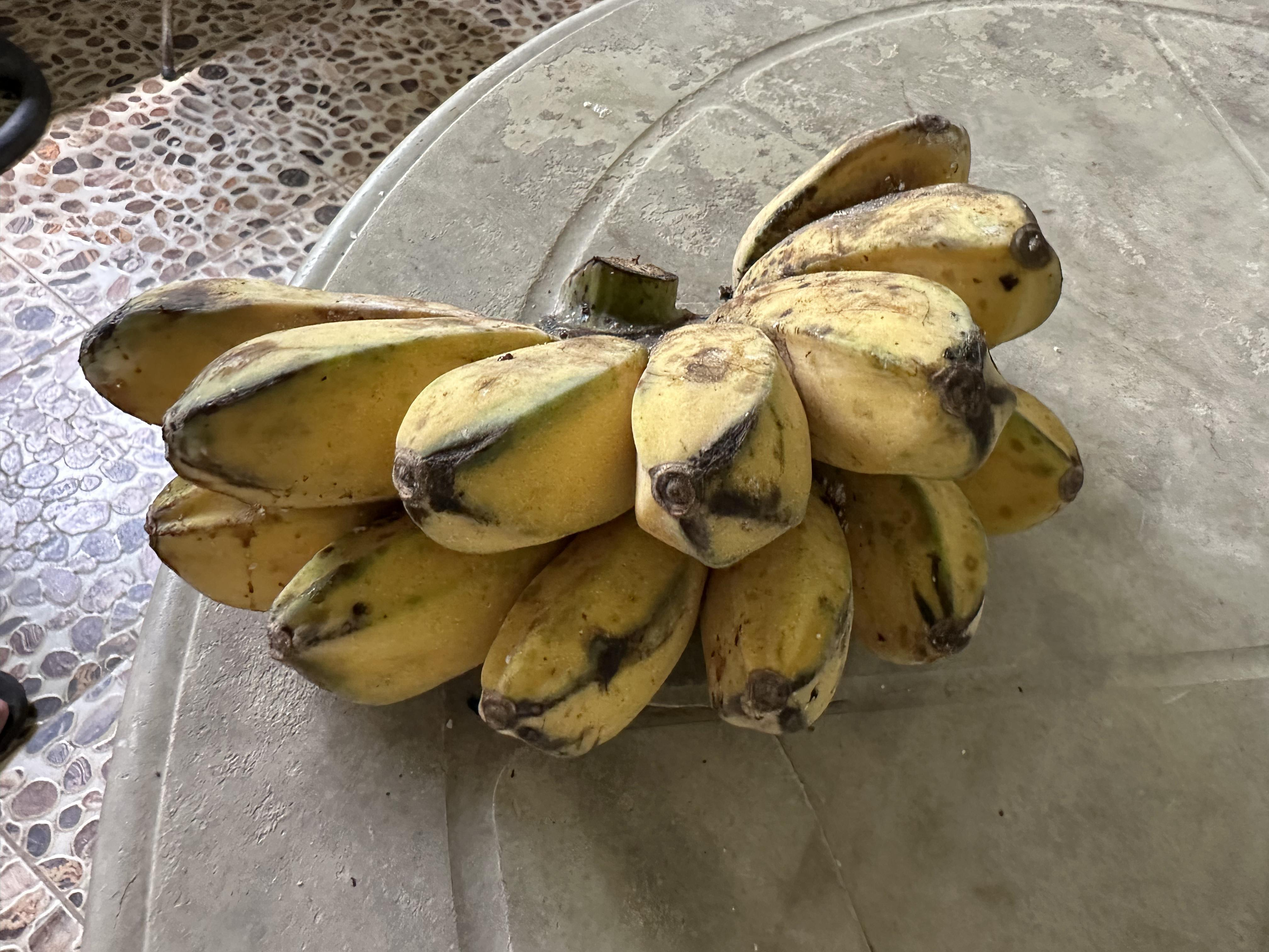ripe: (81, 115, 1082, 756)
